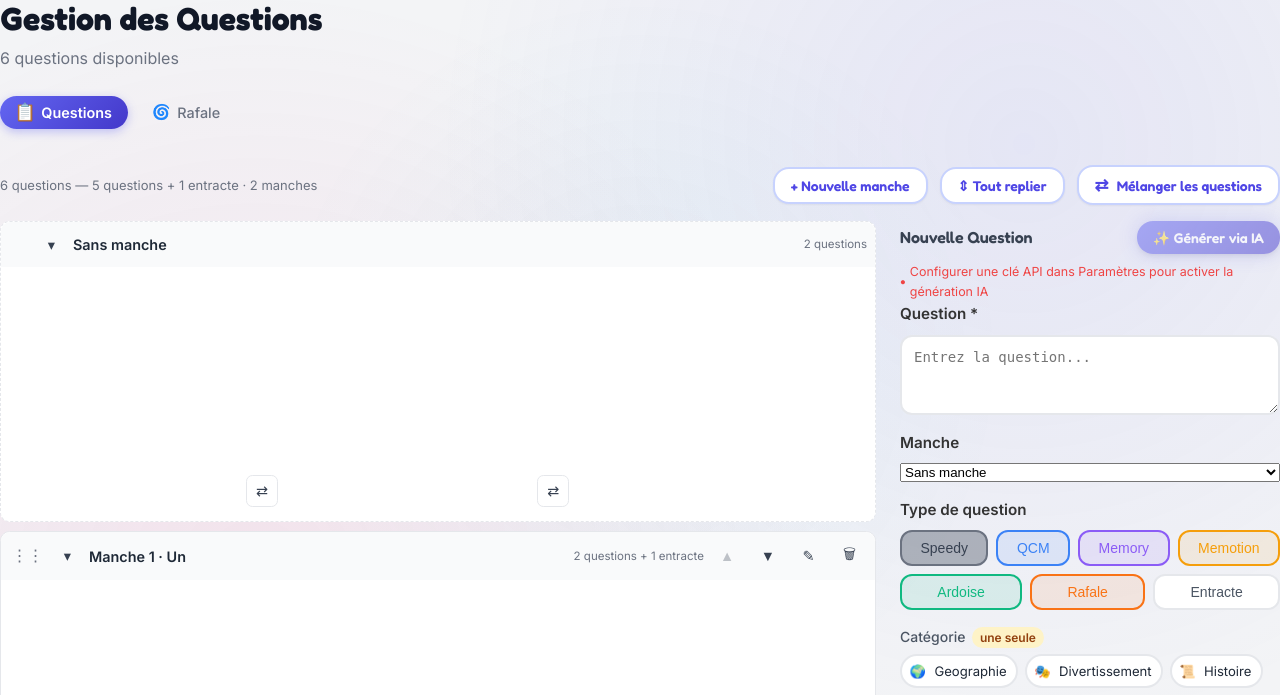
Test case: Éditeur en manches — suppression avec choix (#245, scénarios 26, 27, 31) › Critical — la fenêtre dit combien d’entrées et d’entractes sont concernées, avec deux choix et Annuler ; focus sur « Conserver »
The image size is (1280, 695).
Click the button named "Supprimer la manche" at (849, 556), box [832,538,867,574]
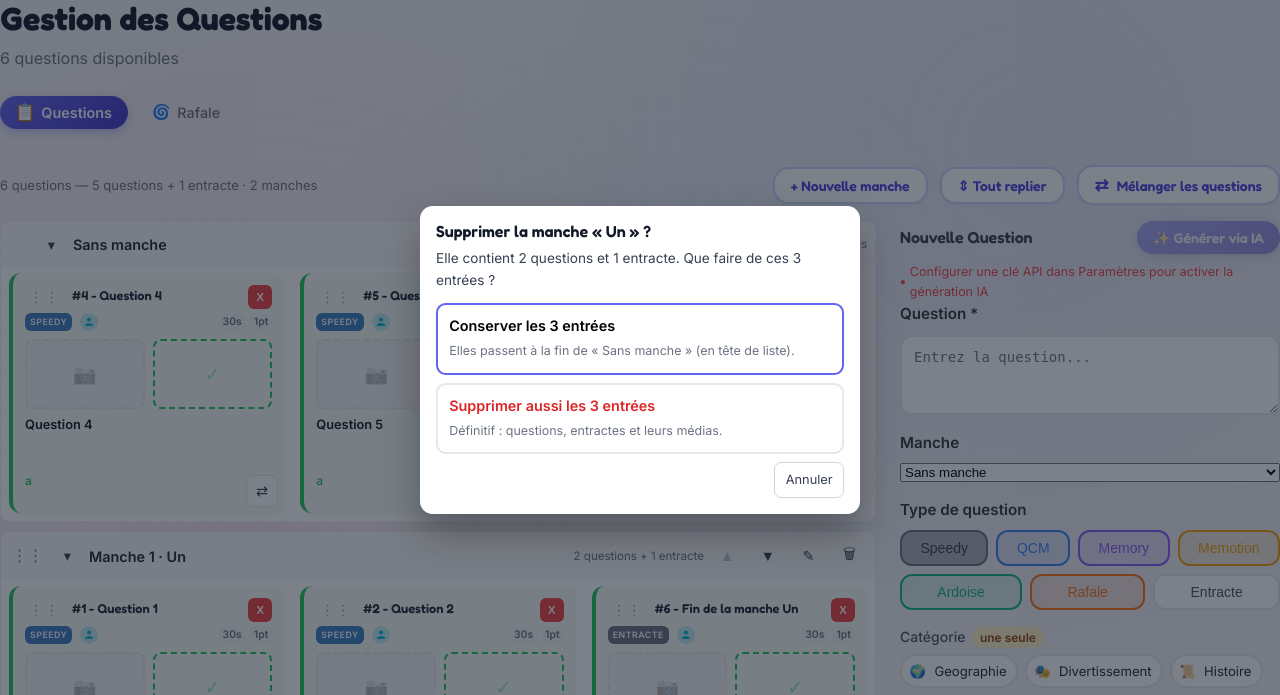
Expected: the button "Conserver les 3 entrées" is shown, [436,303,844,374]
Expected: the button "Supprimer aussi les 3 entrées" is shown, [436,382,844,454]
Expected: the dialog shows "entracte", [593,250,676,266]
